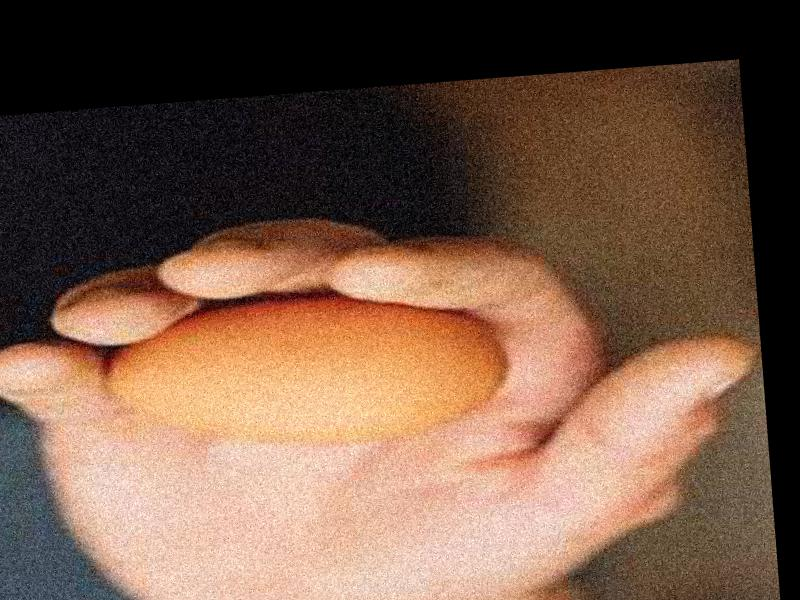Eggs: (100, 287, 508, 459)
